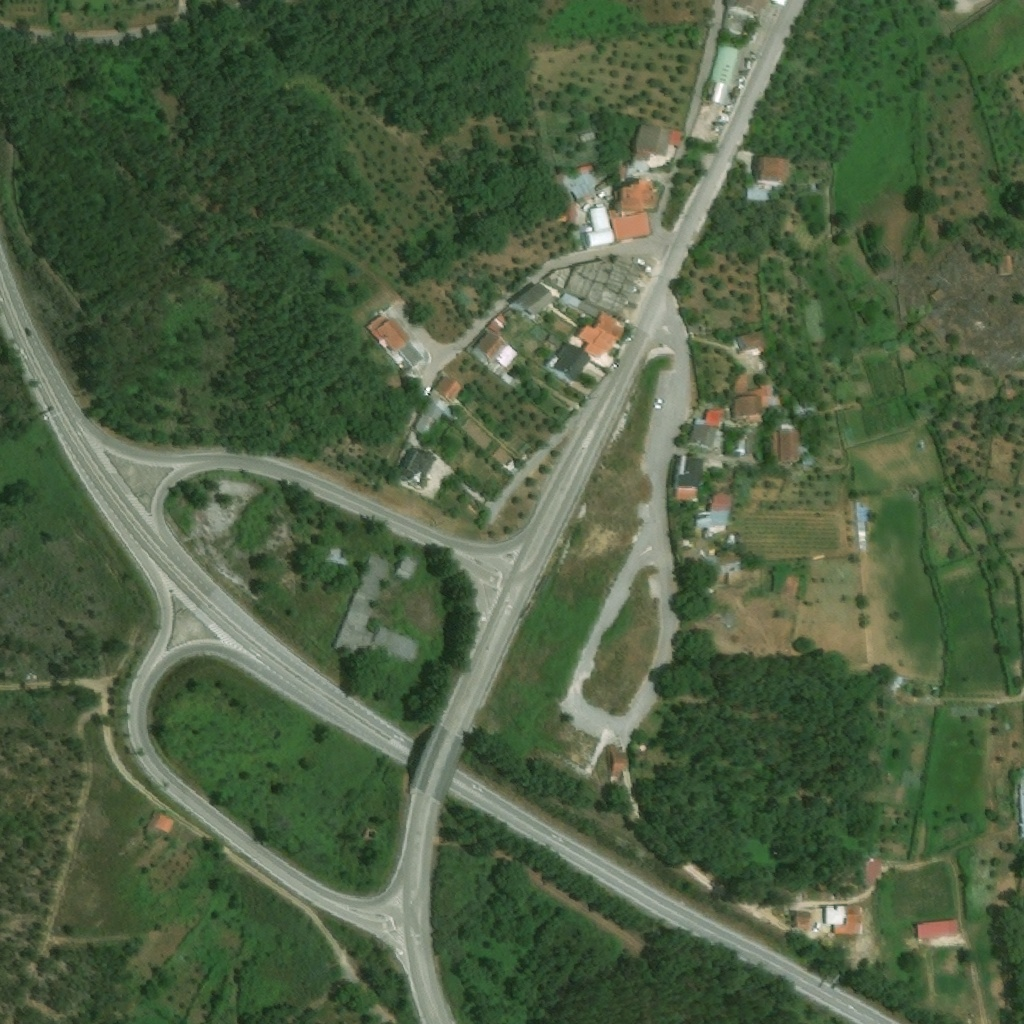0 no-damage: (365, 314, 425, 369), (575, 314, 625, 358), (733, 383, 782, 418), (372, 627, 418, 664), (632, 125, 682, 157), (552, 344, 590, 383), (549, 164, 601, 191), (608, 208, 650, 241), (416, 393, 448, 436), (675, 456, 701, 503), (709, 46, 739, 86), (558, 293, 602, 320), (586, 207, 613, 248), (518, 285, 553, 315), (621, 182, 654, 211), (405, 449, 434, 480), (689, 419, 716, 452), (708, 494, 730, 531), (434, 376, 463, 403), (778, 429, 800, 463), (916, 921, 958, 938), (475, 334, 502, 360), (758, 157, 790, 178), (831, 912, 860, 935), (861, 859, 883, 889), (737, 329, 768, 350), (723, 11, 749, 35), (395, 557, 414, 579), (610, 752, 627, 775), (561, 201, 576, 227), (155, 813, 174, 833), (780, 577, 799, 596), (711, 82, 726, 103), (706, 409, 724, 425), (793, 913, 812, 927), (746, 190, 768, 201), (578, 133, 595, 144)
1 minor-damage: (997, 255, 1012, 275), (931, 288, 946, 303)
4 un-classified: (728, 0, 788, 9), (1016, 769, 1023, 839)
